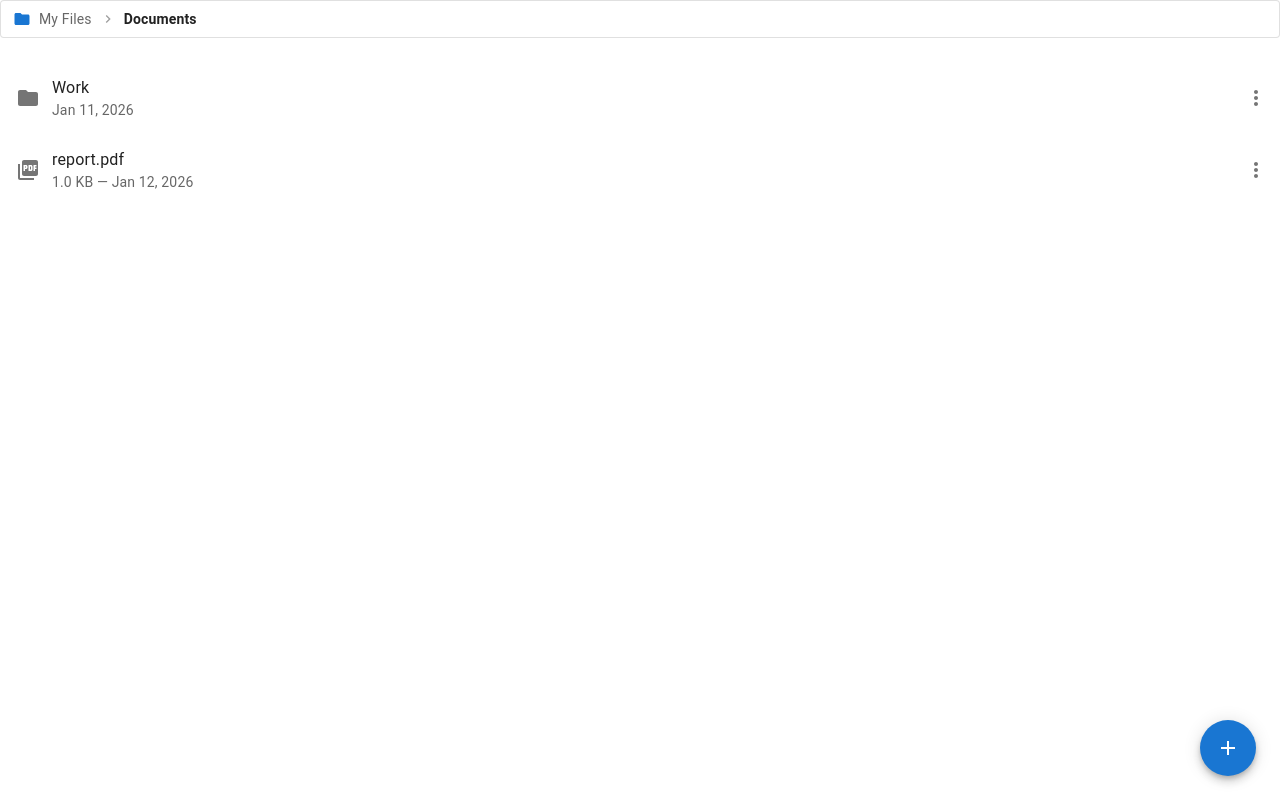
Test case: FolderPage › opens create folder dialog from SpeedDial
expect the text "Work" is shown: met, box [52,78,89,97]
Click the button named "file actions".
click(1228, 748)  # box [1200,720,1256,776]
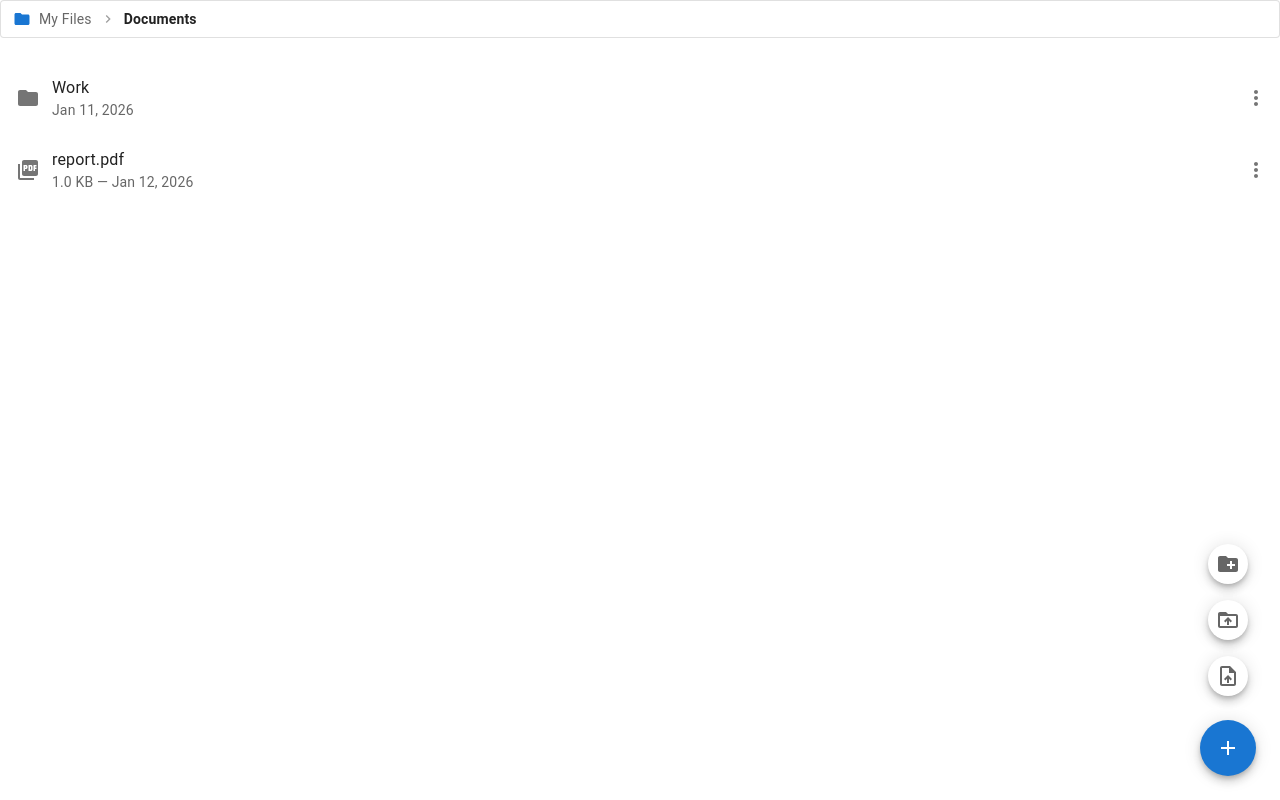
Click the menu item named "New folder".
click(1228, 564)  # box [1208,544,1248,584]
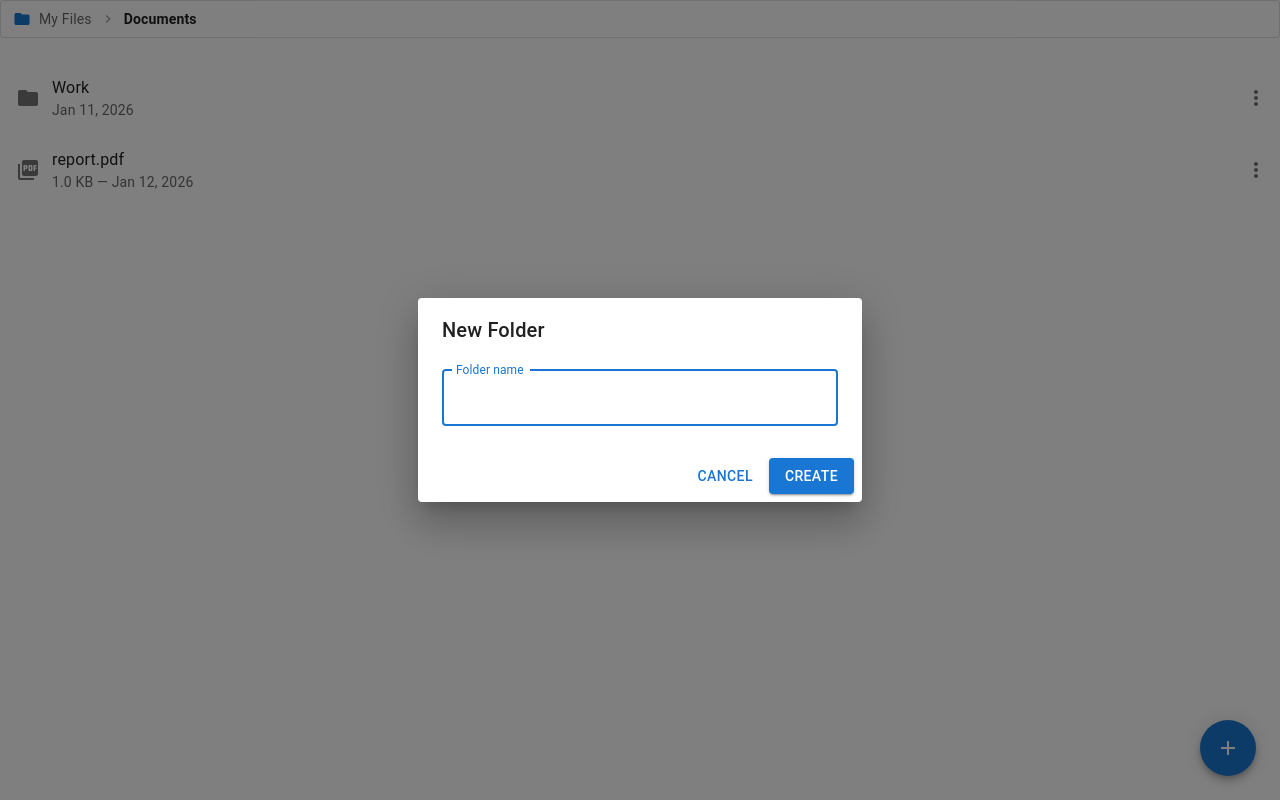
expect the heading "New Folder" is shown: met, box [442,318,545,342]
